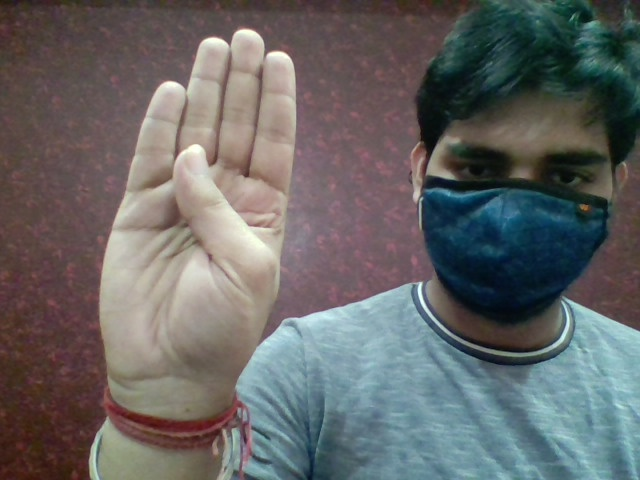b: (84, 19, 302, 398)
